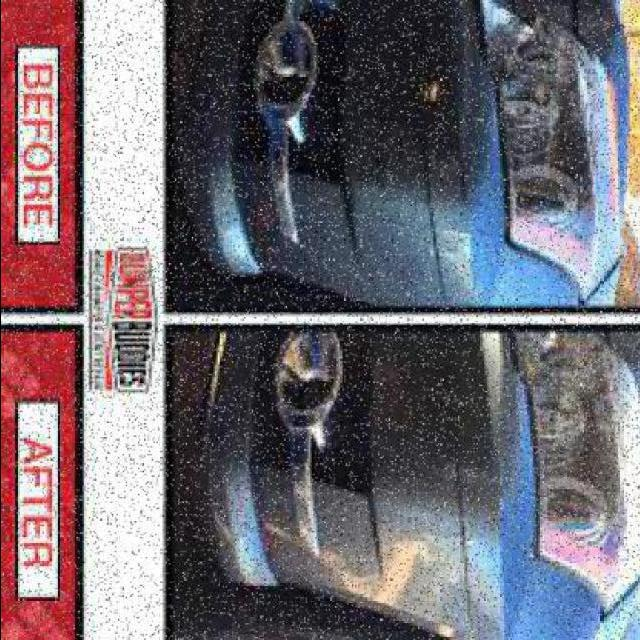front-bumper-dent: (188, 0, 532, 327)
